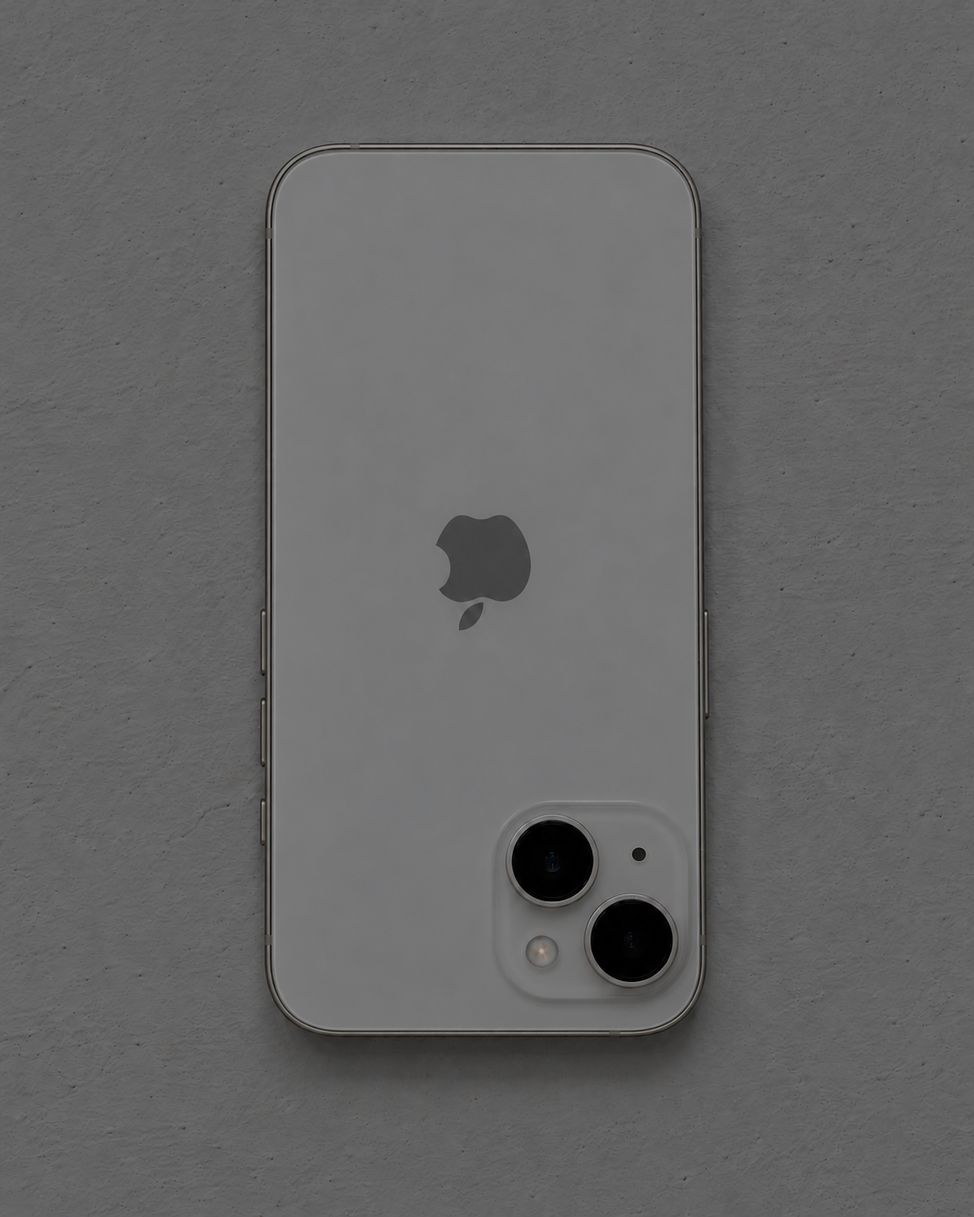iphone_14_white: (183, 96, 759, 1065), (476, 792, 690, 1015)
